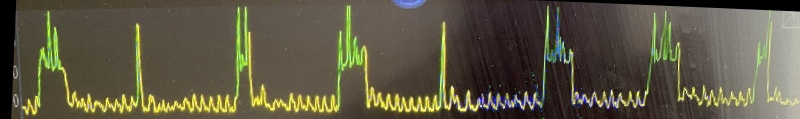hydrop_pressure: (14, 0, 797, 119)
